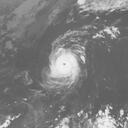cyclone: (48, 48, 82, 86)
